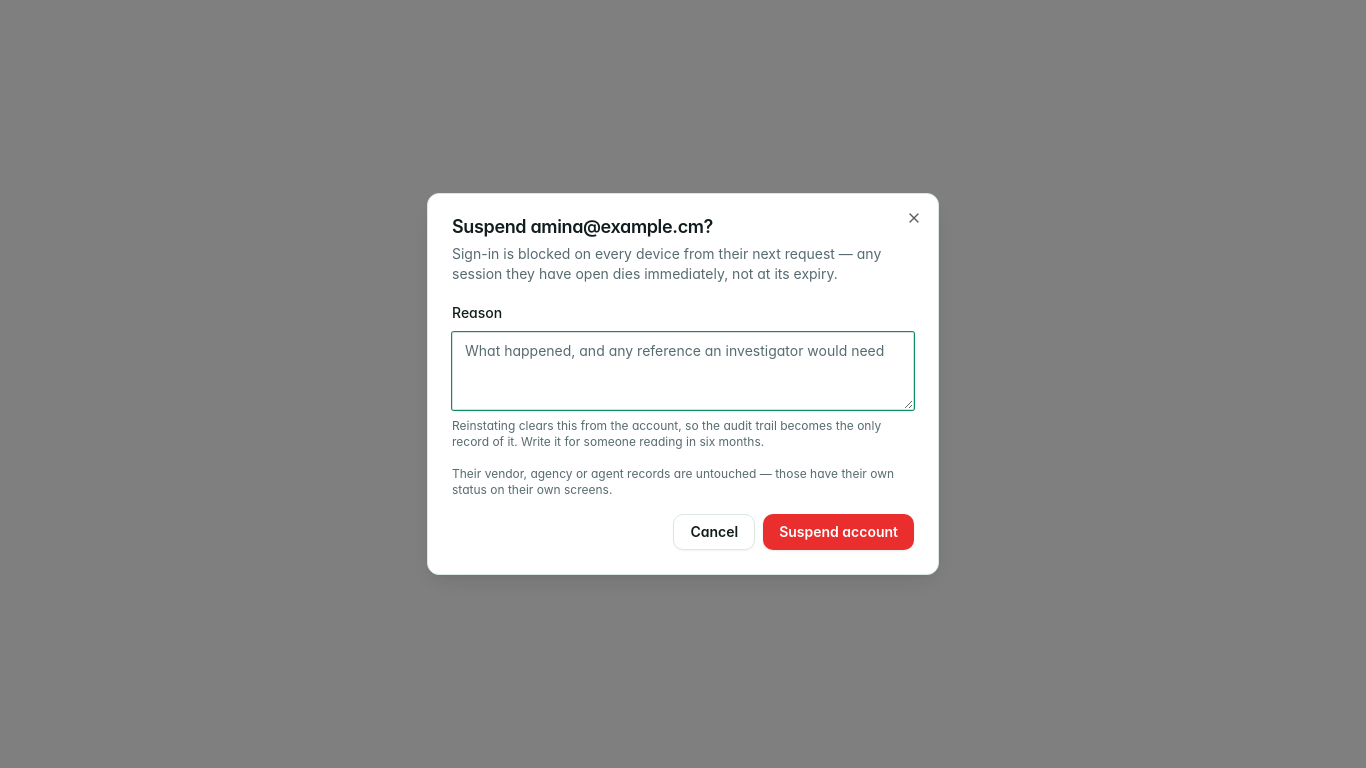
Test case: suspending › refuses a reason shorter than the service accepts, without a round trip
Type "no" into the text box labelled "Reason". click: (683, 371)
box: [452,332,914,410]
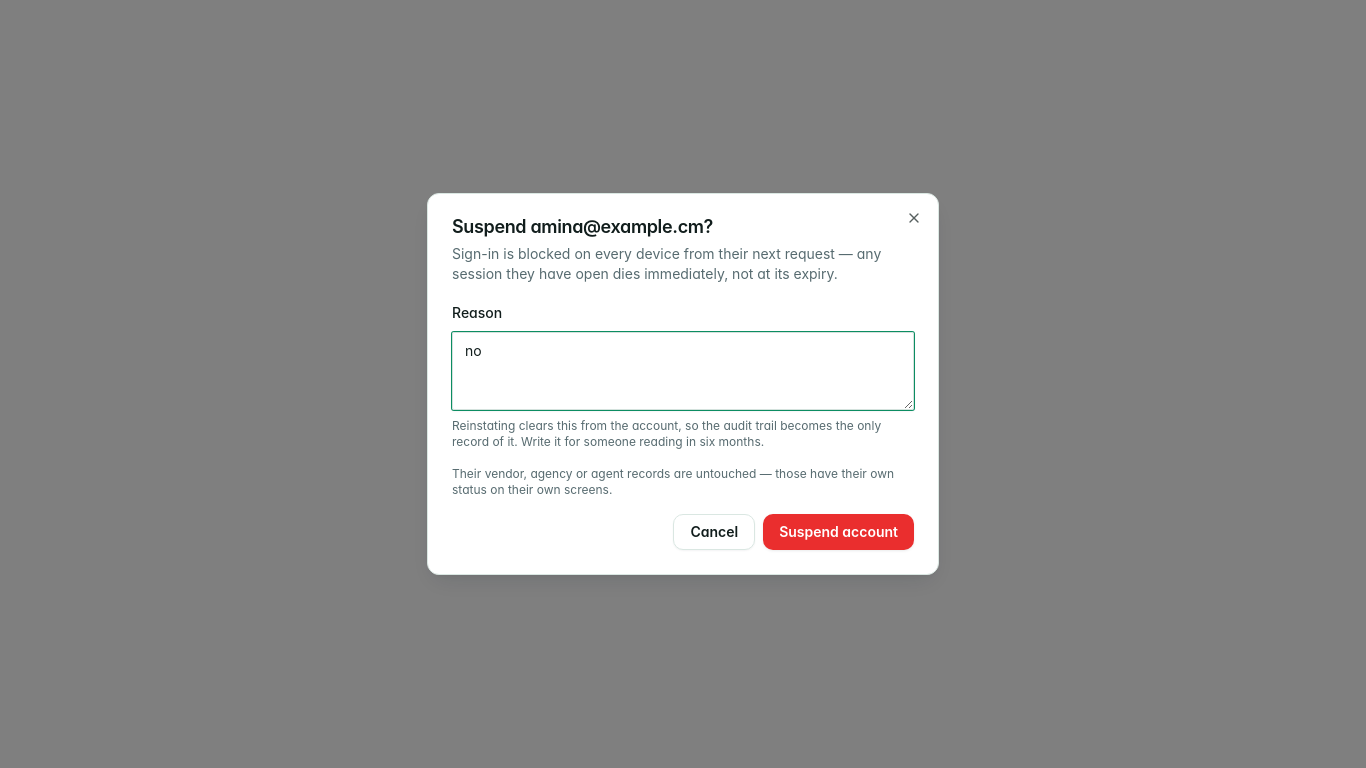
Click the button "Suspend account". click: (839, 532)
box: [763,514,914,550]
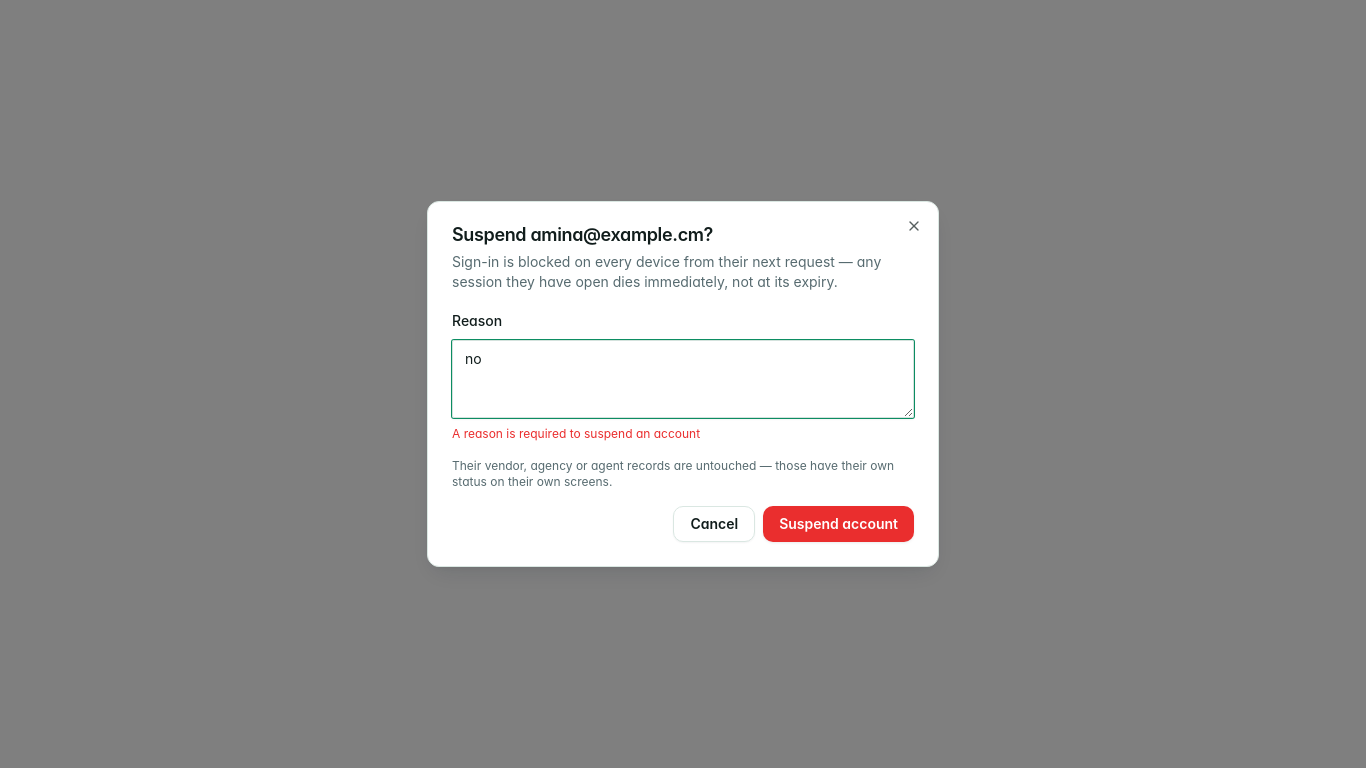
Expected: the text "A reason is required to suspend an account" is shown, [452,426,700,441]
